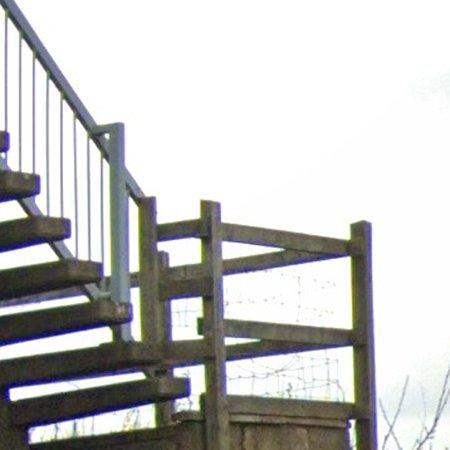stairs: (0, 0, 190, 450)
